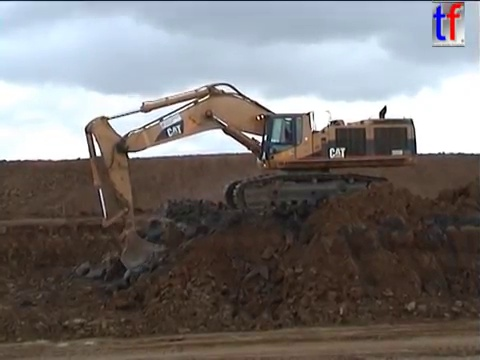excavator: (80, 79, 420, 277)
